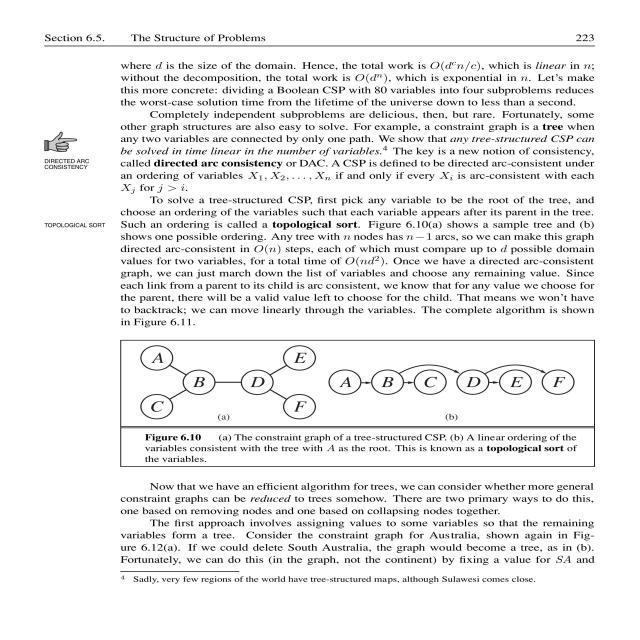diagram: (68, 334, 602, 471)
